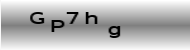7: (65, 11, 79, 25)
G: (28, 11, 45, 24)
P: (50, 19, 66, 33)
g: (107, 25, 121, 38)
h: (85, 11, 97, 25)
